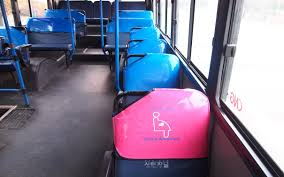seat: (28, 15, 78, 58)
